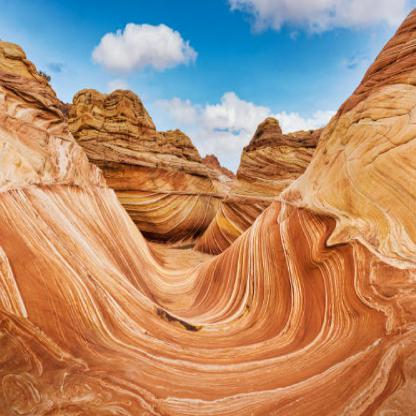Sedimentary_Sandstone: (75, 82, 167, 170), (241, 109, 302, 159)
